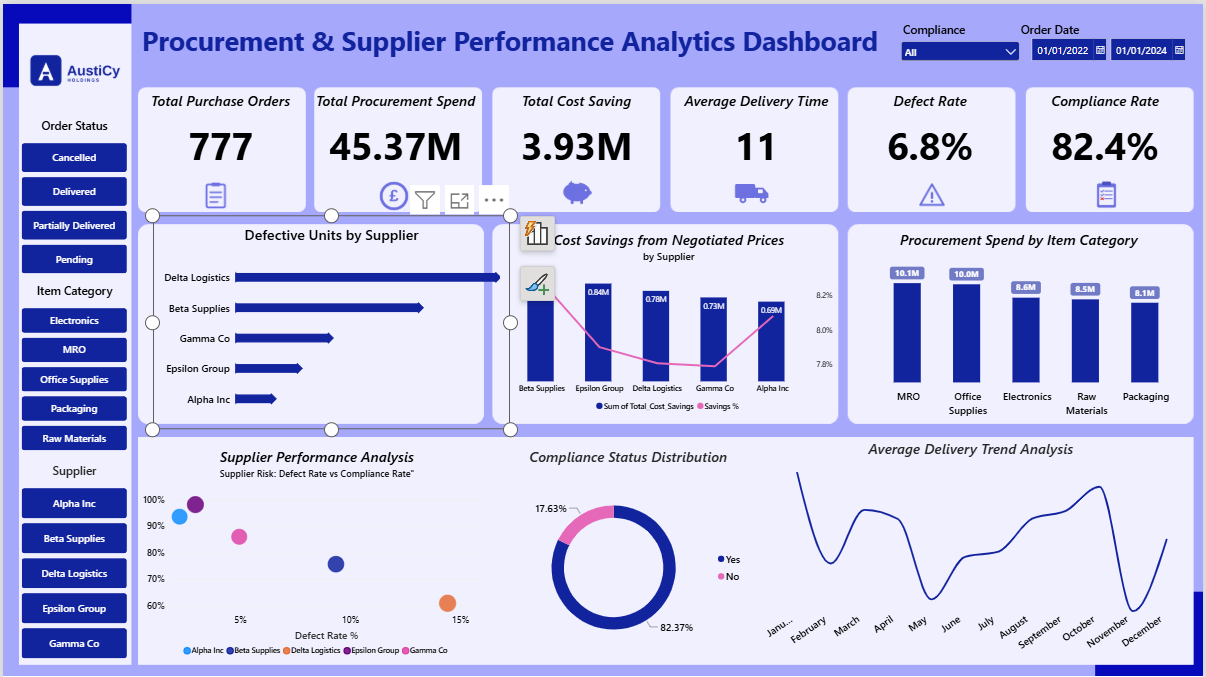

The dashboard page shown, as its layout file describes it:
{"tool":"powerbi","page":{"name":"Page 1","canvas":[1920,1080],"ordinal":0},"visuals":[{"type":"cardVisual","title":"Total Purchase Orders","fields":{"Data":["Procurement KPI Analysis Dataset.Total Purchase Orders"]},"box":[208.2,138.8,280.3,138.8],"z":0},{"type":"cardVisual","title":"Total Procurement Spend","fields":{"Data":["Procurement KPI Analysis Dataset.Total Procurement Spend"]},"box":[488.6,138.8,280.3,138.8],"z":1000},{"type":"cardVisual","title":"Total Cost Saving","fields":{"Data":["Procurement KPI Analysis Dataset.Total Cost Savings"]},"box":[768.9,138.8,299,138.8],"z":2000},{"type":"cardVisual","title":"Average Delivery Time","fields":{"Data":["Procurement KPI Analysis Dataset.Average Delivery Time"]},"box":[1067.9,138.8,275,138.8],"z":3000},{"type":"cardVisual","title":"Defect Rate","fields":{"Data":["Procurement KPI Analysis Dataset.Defect Rate %"]},"box":[1342.8,138.8,283,138.8],"z":4000},{"type":"cardVisual","title":"Compliance Rate","fields":{"Data":["Procurement KPI Analysis Dataset.Compliance Rate %"]},"box":[1625.8,138.8,275,138.8],"z":5000},{"type":"image","box":[582.2,277,86.6,58.4],"z":6000},{"type":"image","box":[307.3,279.2,64.9,49.8],"z":7000},{"type":"image","box":[876.5,264,84.4,64.9],"z":8000},{"type":"image","box":[1162.1,266.2,73.6,71.4],"z":9000},{"type":"image","box":[1441.3,281.3,88.7,47.6],"z":10000},{"type":"image","box":[1722.7,277,86.6,51.9],"z":11000},{"type":"clusteredColumnChart","title":"Procurement Spend by Item Category","fields":{"Category":["Procurement KPI Analysis Dataset.Item_Category"],"Y":["Procurement KPI Analysis Dataset.Total Procurement Spend"]},"box":[1344.4,346.7,562.7,333.3],"z":12000},{"type":"clusteredBarChart","title":"Defective Units by Supplier","fields":{"Category":["Procurement KPI Analysis Dataset.Supplier"],"Y":["Sum(Procurement KPI Analysis Dataset.Defective_Units)"]},"box":[207.8,337.6,571.3,341.9],"z":13000},{"type":"donutChart","title":"Compliance Status Distribution","fields":{"Category":["Procurement KPI Analysis Dataset.Compliance"],"Y":["CountNonNull(Procurement KPI Analysis Dataset.Compliance)"]},"box":[796.4,694.7,409,370.1],"z":14000},{"type":"lineClusteredColumnComboChart","title":"Cost Savings from Negotiated Prices","fields":{"Y":["Sum(Procurement KPI Analysis Dataset.Total_Cost_Savings)"],"Category":["Procurement KPI Analysis Dataset.Supplier"],"Y2":["Procurement KPI Analysis Dataset.Savings %"]},"box":[786.7,346.7,558.3,326.8],"z":15000},{"type":"lineChart","title":"Average Delivery Trend Analysis","fields":{"Category":["Procurement KPI Analysis Dataset.Order_Date.Variation.Date Hierarchy.Month"],"Y":["Procurement KPI Analysis Dataset.Average Delivery Time"]},"box":[1198.9,679.5,701.2,385.2],"z":16000},{"type":"scatterChart","title":"Supplier Performance Analysis","fields":{"X":["Procurement KPI Analysis Dataset.Defect Rate %"],"Y":["Procurement KPI Analysis Dataset.Compliance Rate %"],"Series":["Procurement KPI Analysis Dataset.Supplier"],"Size":["CountNonNull(Procurement KPI Analysis Dataset.PO_ID)"]},"box":[207.8,694.7,588.6,370.1],"z":17000},{"type":"advancedSlicerVisual","fields":{"Values":["Procurement KPI Analysis Dataset.Supplier"]},"box":[30.3,733.6,168.8,316],"z":18000},{"type":"advancedSlicerVisual","title":"Item Category","fields":{"Values":["Procurement KPI Analysis Dataset.Item_Category"]},"box":[30.3,445.8,168.8,268.4],"z":19000},{"type":"advancedSlicerVisual","title":"Order Status","fields":{"Values":["Procurement KPI Analysis Dataset.Order_Status"]},"box":[30.3,181.8,168.8,248.9],"z":20000},{"type":"slicer","fields":{"Values":["Procurement KPI Analysis Dataset.Compliance"]},"box":[1432.7,28.1,199.1,86.6],"z":21000},{"type":"slicer","title":"Order Date","fields":{"Values":["Procurement KPI Analysis Dataset.Order_Date"]},"box":[1638.3,49.8,281.3,56.3],"z":22000},{"type":"textbox","box":[1618.8,28.1,261.9,43.3],"z":23000},{"type":"textbox","box":[222.9,28.1,1179.5,86.6],"z":24000},{"type":"image","box":[41.1,26,147.2,160.1],"z":25000}]}

Visuals, with their boxes in screenshot pixels (x1, y1, x2, y2), scaled from the page's 1920x1080 canvas onto the 1206x677 screenshot:
"Total Purchase Orders" cardVisual: box(131, 87, 307, 174)
"Total Procurement Spend" cardVisual: box(307, 87, 483, 174)
"Total Cost Saving" cardVisual: box(483, 87, 671, 174)
"Average Delivery Time" cardVisual: box(671, 87, 844, 174)
"Defect Rate" cardVisual: box(843, 87, 1021, 174)
"Compliance Rate" cardVisual: box(1021, 87, 1194, 174)
image: box(366, 174, 420, 210)
image: box(193, 175, 234, 206)
image: box(551, 165, 604, 206)
image: box(730, 167, 776, 212)
image: box(905, 176, 961, 206)
image: box(1082, 174, 1136, 206)
"Procurement Spend by Item Category" clusteredColumnChart: box(844, 217, 1198, 426)
"Defective Units by Supplier" clusteredBarChart: box(131, 212, 489, 426)
"Compliance Status Distribution" donutChart: box(500, 435, 757, 667)
"Cost Savings from Negotiated Prices" lineClusteredColumnComboChart: box(494, 217, 845, 422)
"Average Delivery Trend Analysis" lineChart: box(753, 426, 1194, 667)
"Supplier Performance Analysis" scatterChart: box(131, 435, 500, 667)
advancedSlicerVisual - Procurement KPI Analysis Dataset.Supplier: box(19, 460, 125, 658)
"Item Category" advancedSlicerVisual: box(19, 279, 125, 448)
"Order Status" advancedSlicerVisual: box(19, 114, 125, 270)
slicer - Procurement KPI Analysis Dataset.Compliance: box(900, 18, 1025, 72)
"Order Date" slicer: box(1029, 31, 1205, 67)
textbox: box(1017, 18, 1181, 45)
textbox: box(140, 18, 881, 72)
image: box(26, 16, 118, 117)
